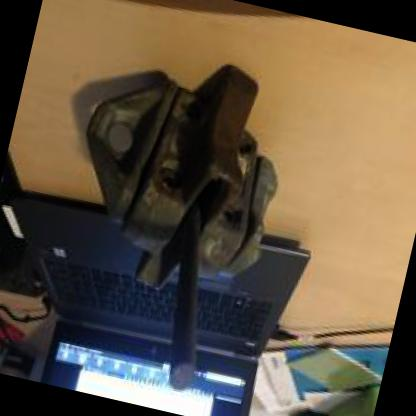Twistlock: (46, 15, 315, 332)
